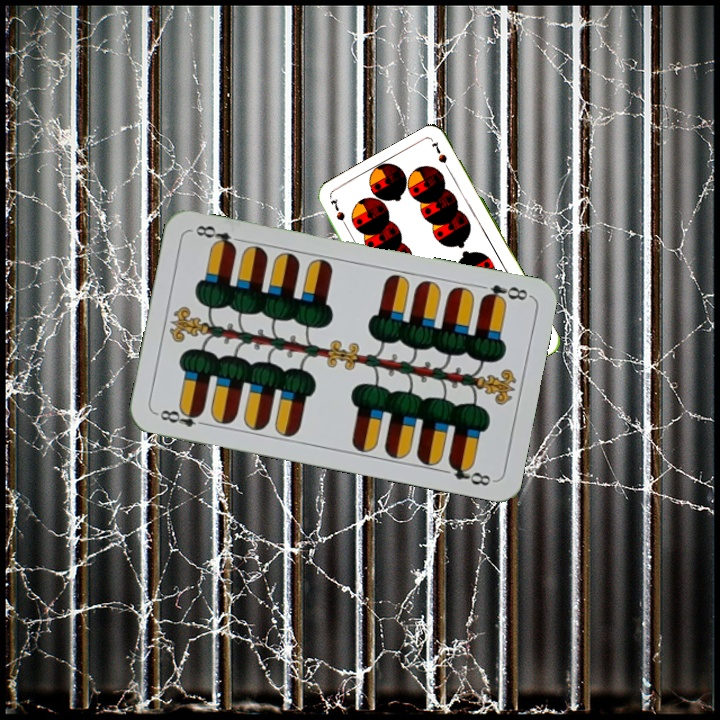E8: (153, 403, 211, 430), (477, 280, 532, 306)
S7: (327, 195, 351, 233)
